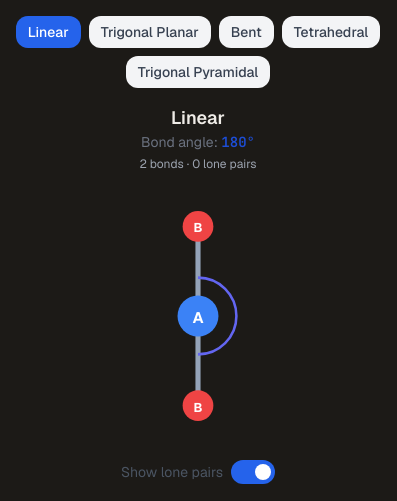
MolecularGeometry › switches to tetrahedral on click
Click the button "Tetrahedral": (331, 32) left=282, top=16, right=380, bottom=48
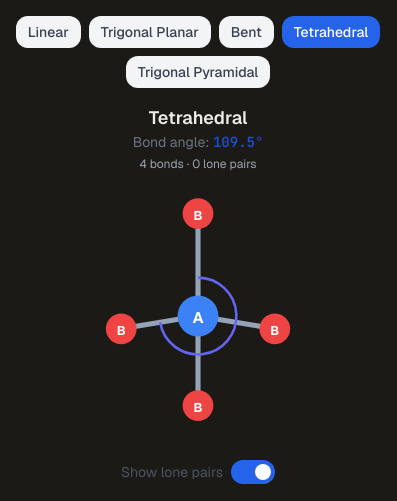
Expected: the text with test id "shape-name" reads "Tetrahedral", left=149, top=106, right=247, bottom=129
Expected: the text with test id "bond-angle" shows "109.5", left=213, top=133, right=263, bottom=151
